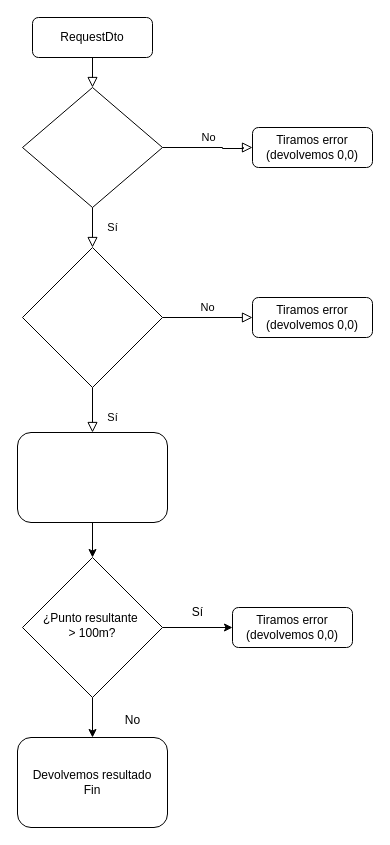
Some shapes in this 390 by 845 pixel diagram are drawn without their labels. The shapes that lost their labels are listed below. From the top down, each one's box as (x1, y1, x2, y2) in pixels, then its label:
(22, 86, 162, 208): ¿Tiene al menos 1 protocolo?
(22, 246, 162, 388): ¿Tiene al menos 1 scan?
(16, 432, 168, 522): Aplicamos protocolos (damos por hecho que protocolos son compatibles)
